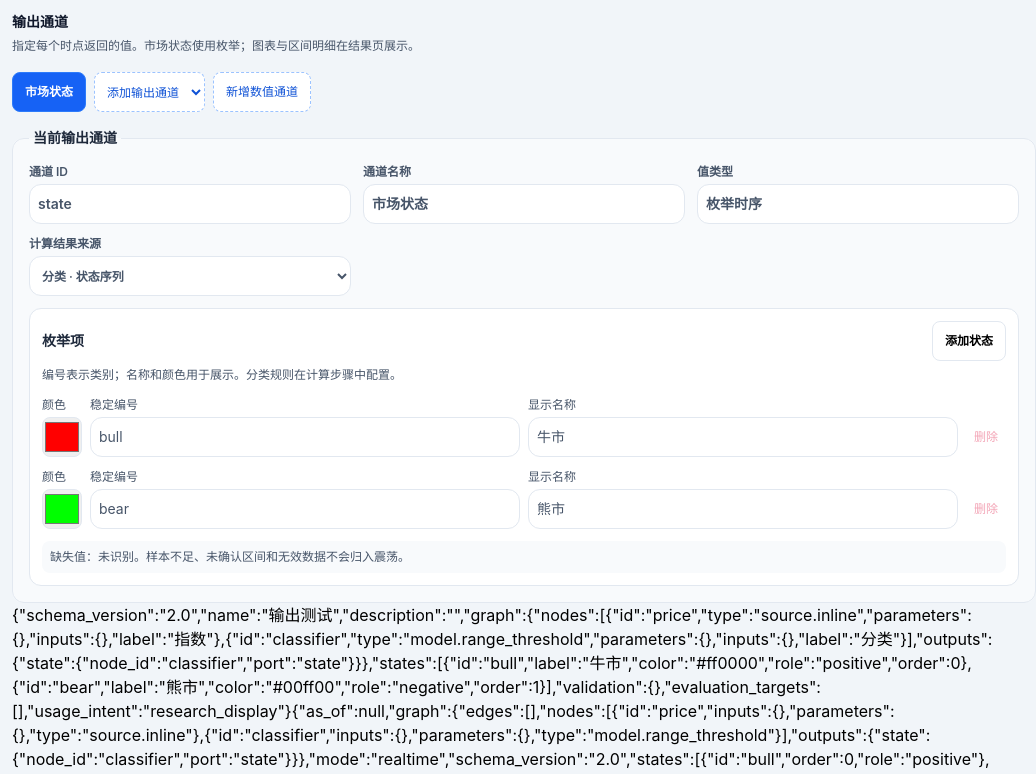
Test: 时序输出构建 › 重复通道编号可读地报错并保留原始定义
The image size is (1036, 774).
Click the button "新增数值通道" at x=262, y=92, box [213, 72, 311, 112]
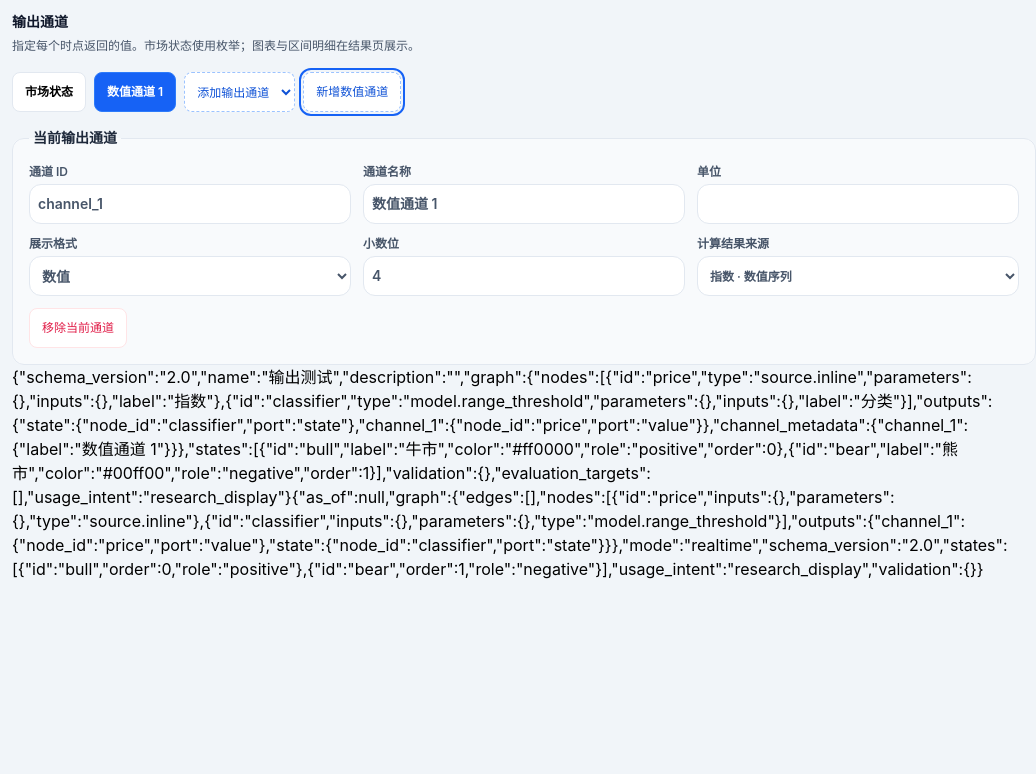
Replace the text in the field named "输出通道 1 ID" with "state" at x=190, y=204, box [29, 184, 351, 224]
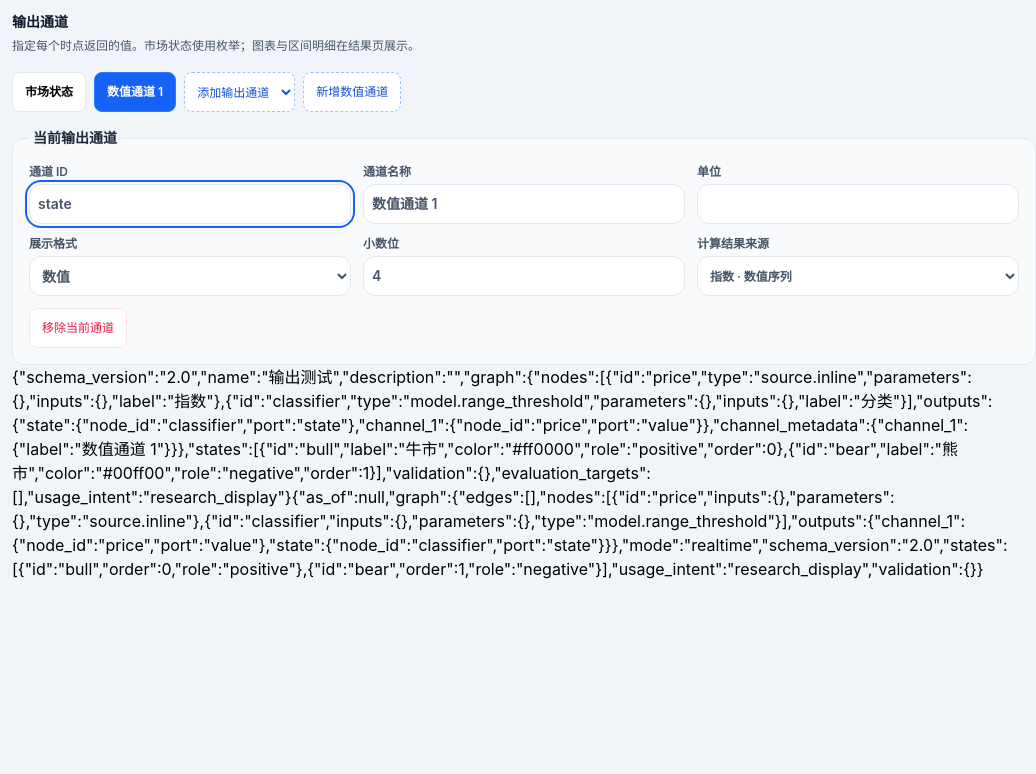
Press Tab
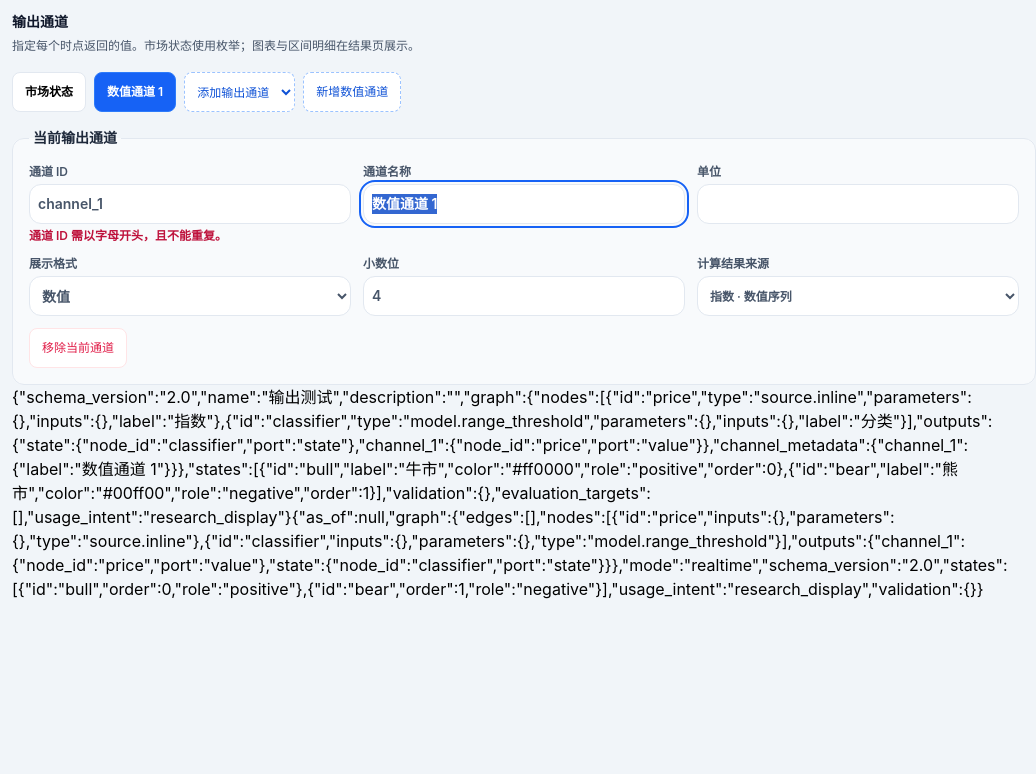
Expected: the message shows "不能重复", [29, 228, 227, 243]
Expected: the field named "输出通道 1 ID" holds "channel_1", [29, 184, 351, 224]
